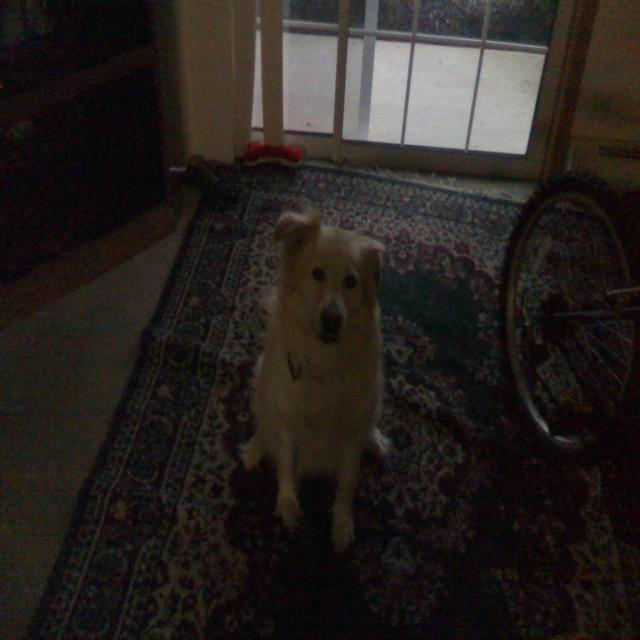Dog: (202, 132, 401, 572)
